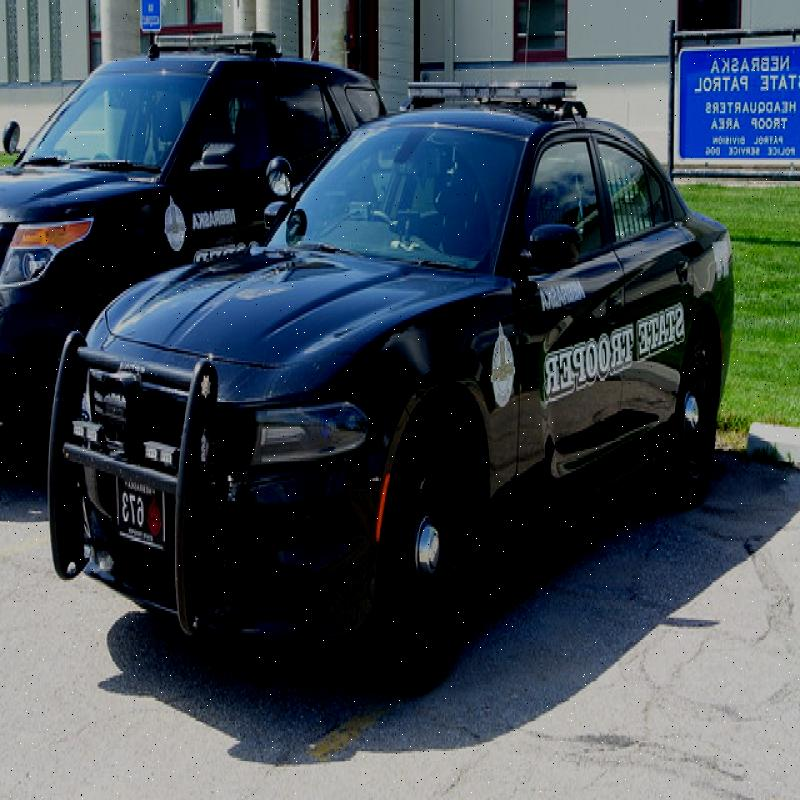AmbulanceSiren: (386, 43, 588, 131)
